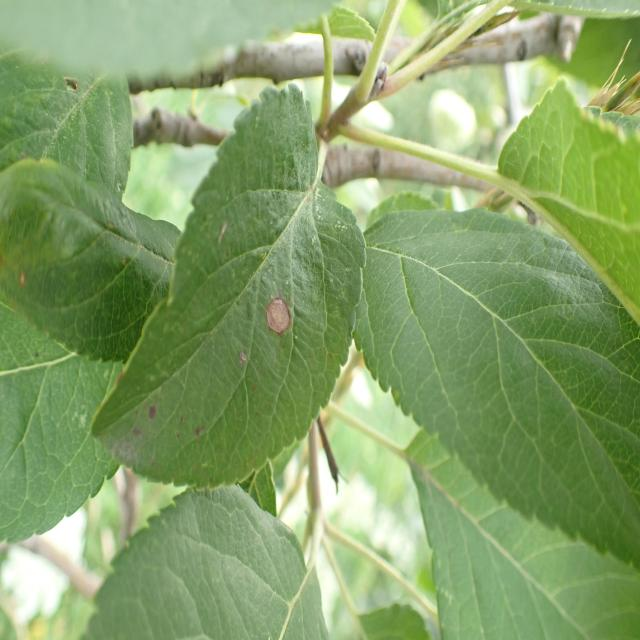Black Rot: (248, 282, 296, 348), (12, 254, 34, 305)
